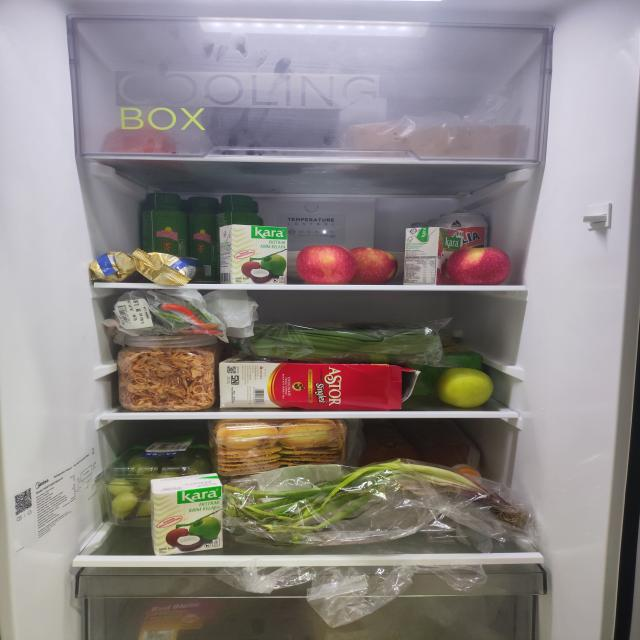apple: (296, 245, 398, 285), (446, 246, 511, 286), (435, 367, 494, 408)
chili: (152, 290, 224, 335)
coconut_milk: (150, 473, 224, 556), (219, 224, 288, 285), (403, 227, 464, 286)
grape: (108, 453, 212, 520)
leafy_greens: (248, 322, 444, 366)
spring_onion: (223, 458, 528, 546)
